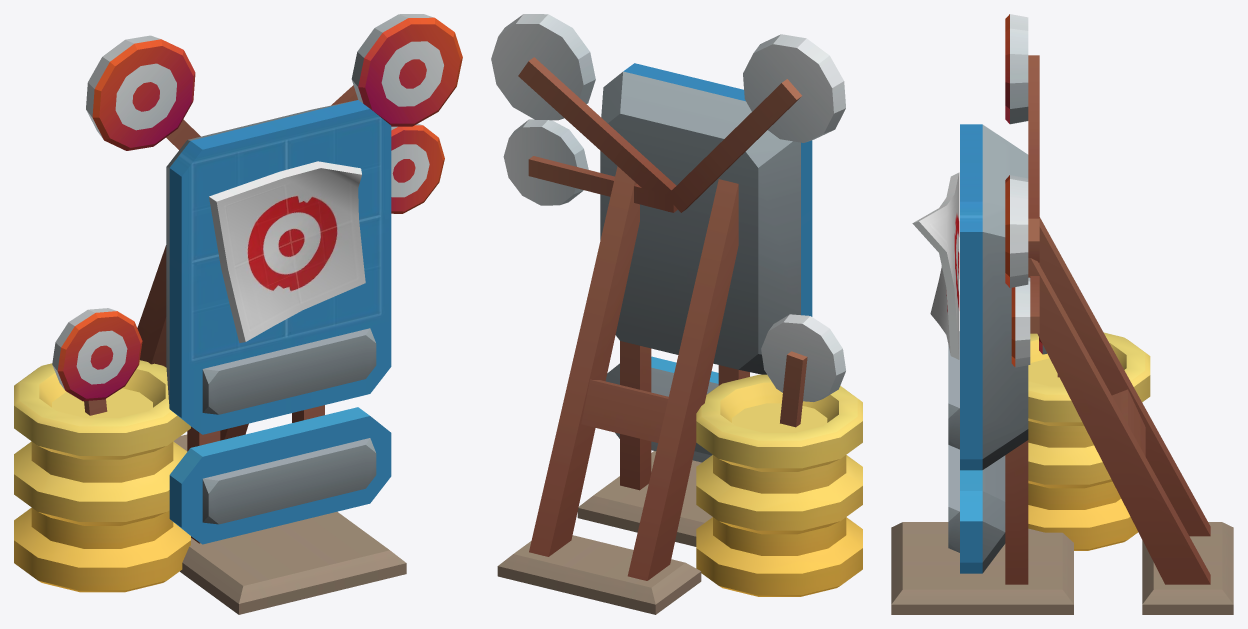
File: target-001.glb
3 views of the same model, side by side, from view 1: azimuth 30°, elevation 25°; view 2: azimuth 150°, elevation 25°; view 3: azimuth 270°, elevation 25° (orthographic). The views are drawn at different scales.
Visible parts, largest first — view 1: target_stand_A_Decorated; view 2: target_stand_A_Decorated; view 3: target_stand_A_Decorated.
Boxes of the visible parts, x1,y1,x2,y2 form: target_stand_A_Decorated: (14, 14, 462, 614); target_stand_A_Decorated: (491, 14, 862, 614); target_stand_A_Decorated: (891, 14, 1233, 614).
Size of the model in its own units: 1.94 by 2.44 by 1.5.
1 material, 1 textured.
